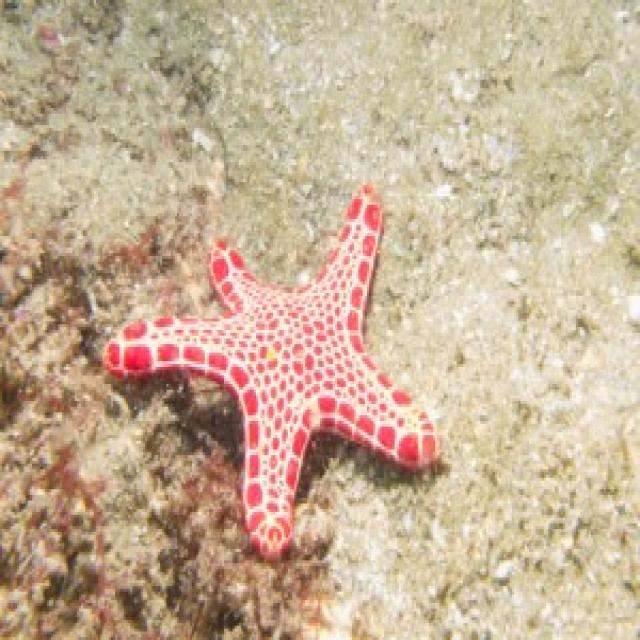Starfish: (92, 158, 465, 572)
